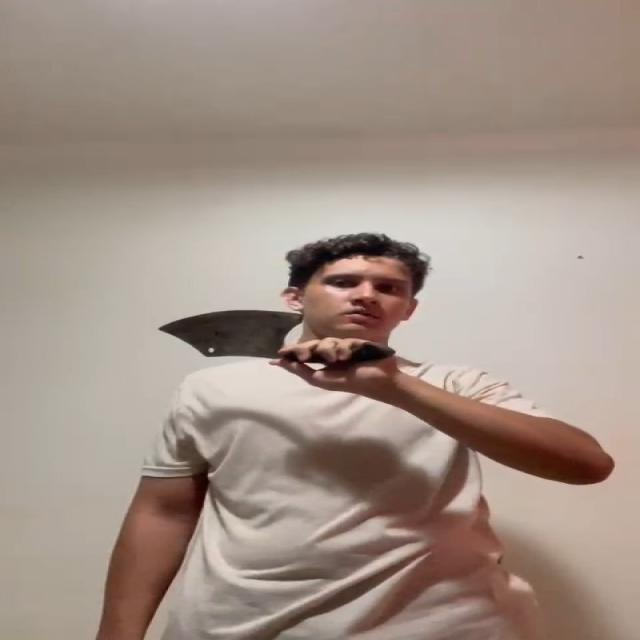knife: (153, 308, 302, 359)
